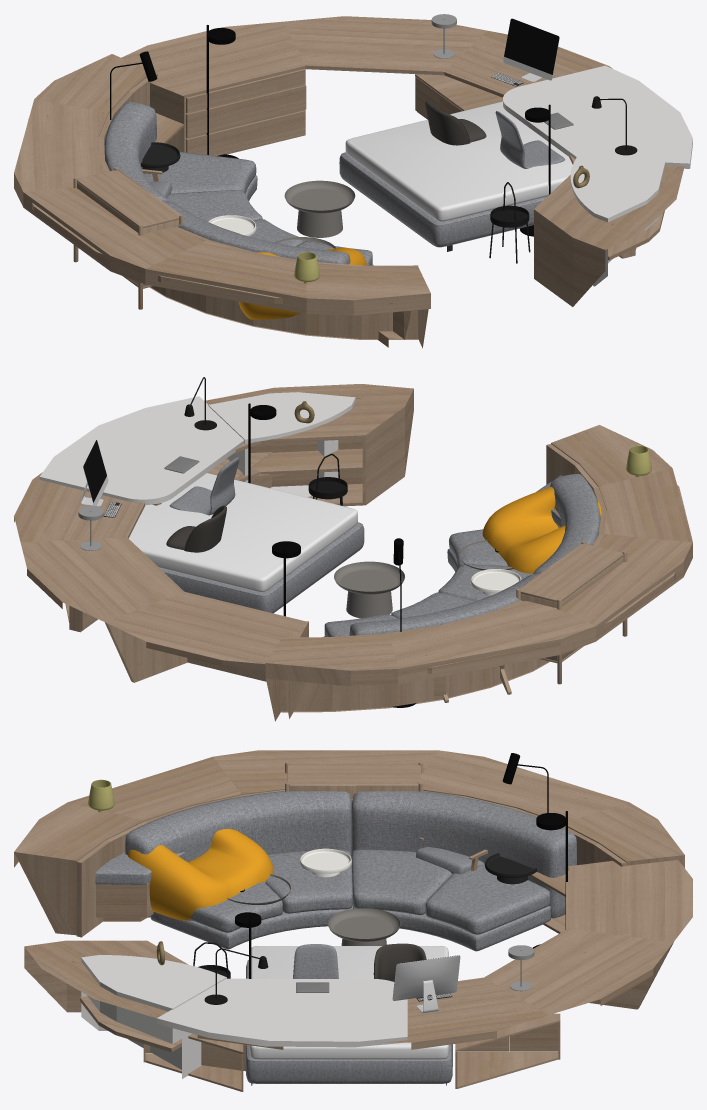
Rendered from furniture-studio.glb.
3 renders of one model, top to bottom at view 1: azimuth 30°, elevation 25°; view 2: azimuth 150°, elevation 25°; view 3: azimuth 270°, elevation 25°, orthographic. The views are drawn at different scales.
Parts seen in each view (by area): view 1: live, work, sleep, work-back-door; view 2: live, work, sleep, work-back-door; view 3: live, work, sleep, work-back-door.
Boxes of the visible parts, x1,y1,x2,y2 form: live: (14,25,692,348); work: (28,14,684,347); sleep: (73,51,636,319); work-back-door: (150,22,319,282); live: (39,377,692,721); work: (14,384,691,699); sleep: (65,452,627,707); work-back-door: (104,446,651,718); live: (14,750,684,1078); work: (24,779,692,1071); sleep: (127,753,560,1091); work-back-door: (88,780,673,1008).
Bounding box in the file's own units: 6.28 × 1.54 × 6.18.
42 materials, 9 textured.
